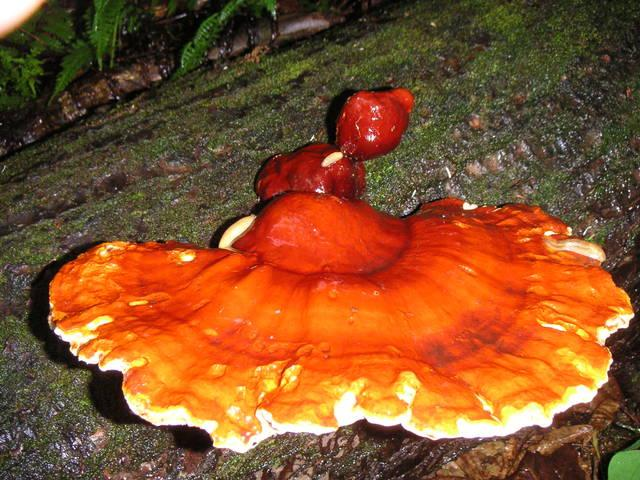Non-edible Mushroom: (38, 75, 640, 469)
